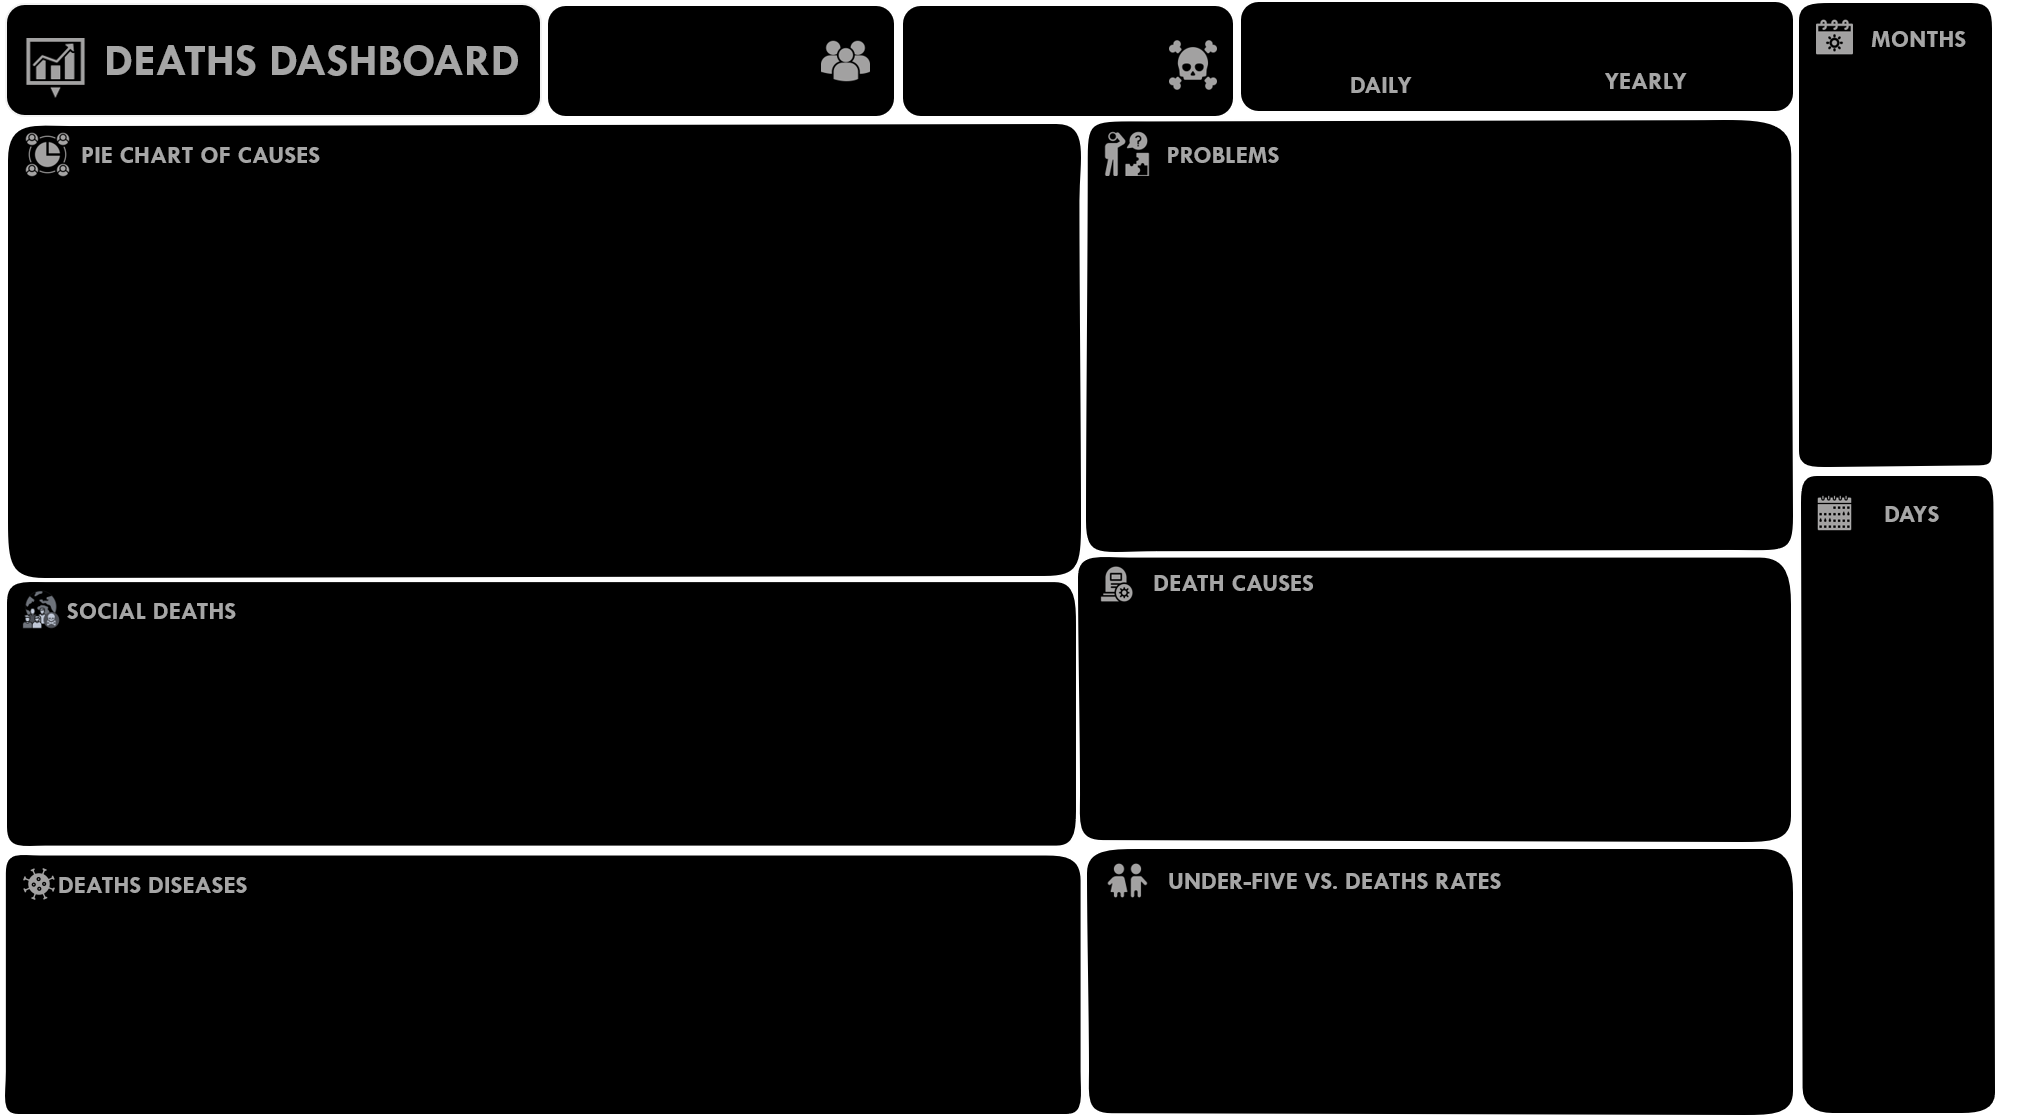

The dashboard page shown, as its layout file describes it:
{"tool":"powerbi","page":{"name":"Page 1","canvas":[2000,1200],"ordinal":0},"visuals":[{"type":"slicer","fields":{"Values":["dime_date.day"]},"box":[1812,598,178,593],"z":0},{"type":"slicer","fields":{"Values":["dime_date.month"]},"box":[1812,82,170,411],"z":1000},{"type":"slicer","fields":{"Values":["dime_metric_type.metric_type_id"]},"box":[1258,16,520,52],"z":2000},{"type":"card","fields":{"Values":["Sum(fact_meetrics.current_world_population)"]},"box":[564,0,258,82],"z":3000},{"type":"card","fields":{"Values":["Sum(fact_meetrics.deaths)"]},"box":[918,0,244,82],"z":4000},{"type":"treemap","title":"Problems","fields":{"Values":["Sum(fact_meetrics.problem_social)","Sum(fact_meetrics.deaths_due_to_water_related_diseases)","Sum(fact_meetrics.people_died_of_hunger)"]},"box":[1098,194,680,390],"z":5000},{"type":"gauge","title":"Under-Five vs. deaths Rates","fields":{"Y":["Sum(fact_meetrics.deaths_of_children_under_5)"],"MaxValue":["Sum(fact_meetrics.deaths)"]},"box":[1098,970,680,204],"z":6000},{"type":"funnel","title":"Deaths diseases","fields":{"Y":["Sum(fact_meetrics.communicable_disease_deaths)","Sum(fact_meetrics.deaths_due_to_cancer)","Sum(fact_meetrics.deaths_due_to_hiv_aids)","Sum(fact_meetrics.seasonal_flu_deaths)","Sum(fact_meetrics.deaths_due_to_malaria)"]},"box":[20,970,1046,204],"z":7000},{"type":"funnel","title":"Social deaths","fields":{"Y":["Sum(fact_meetrics.deaths_due_to_smoking)","Sum(fact_meetrics.deaths_due_to_alcohol)","Sum(fact_meetrics.road_traffic_accident_fatalities)","Sum(fact_meetrics.suicides)"]},"box":[22,679,1048,214],"z":8000},{"type":"pieChart","title":"pie_chart des causes","fields":{"Y":["Sum(fact_meetrics.RemainingDeaths)","Sum(fact_meetrics.seasonal_flu_deaths)","Sum(fact_meetrics.deaths_due_to_alcohol)","Sum(fact_meetrics.deaths_due_to_cancer)","Sum(fact_meetrics.deaths_due_to_hiv_aids)","Sum(fact_meetrics.deaths_due_to_smoking)","Sum(fact_meetrics.deaths_due_to_water_related_diseases)","Sum(fact_meetrics.deaths_due_to_malaria)","Sum(fact_meetrics.people_died_of_hunger)","Sum(fact_meetrics.road_traffic_accident_fatalities)","Sum(fact_meetrics.suicides)"]},"box":[20,208.3,1048.3,395],"z":9000},{"type":"lineClusteredColumnComboChart","title":"Death causes","fields":{"Y":["Sum(fact_meetrics.Deaths_Social)","Sum(fact_meetrics.Deaths_Maladie)","Sum(fact_meetrics.Deaths_Autres)"]},"box":[1090,660,688,230],"z":10000}]}

Visuals, with their boxes on the page's 2000x1200 design canvas (x1, y1, x2, y2). These are canvas units, not pixel positions in the 2026x1117 screenshot, which may show the page scaled, cropped or inside an application window:
slicer - dime_date.day: BBox(1812, 598, 1990, 1191)
slicer - dime_date.month: BBox(1812, 82, 1982, 493)
slicer - dime_metric_type.metric_type_id: BBox(1258, 16, 1778, 68)
card - Sum(fact_meetrics.current_world_population): BBox(564, 0, 822, 82)
card - Sum(fact_meetrics.deaths): BBox(918, 0, 1162, 82)
"Problems" treemap: BBox(1098, 194, 1778, 584)
"Under-Five vs. deaths Rates" gauge: BBox(1098, 970, 1778, 1174)
"Deaths diseases" funnel: BBox(20, 970, 1066, 1174)
"Social deaths" funnel: BBox(22, 679, 1070, 893)
"pie_chart des causes" pieChart: BBox(20, 208, 1068, 603)
"Death causes" lineClusteredColumnComboChart: BBox(1090, 660, 1778, 890)
